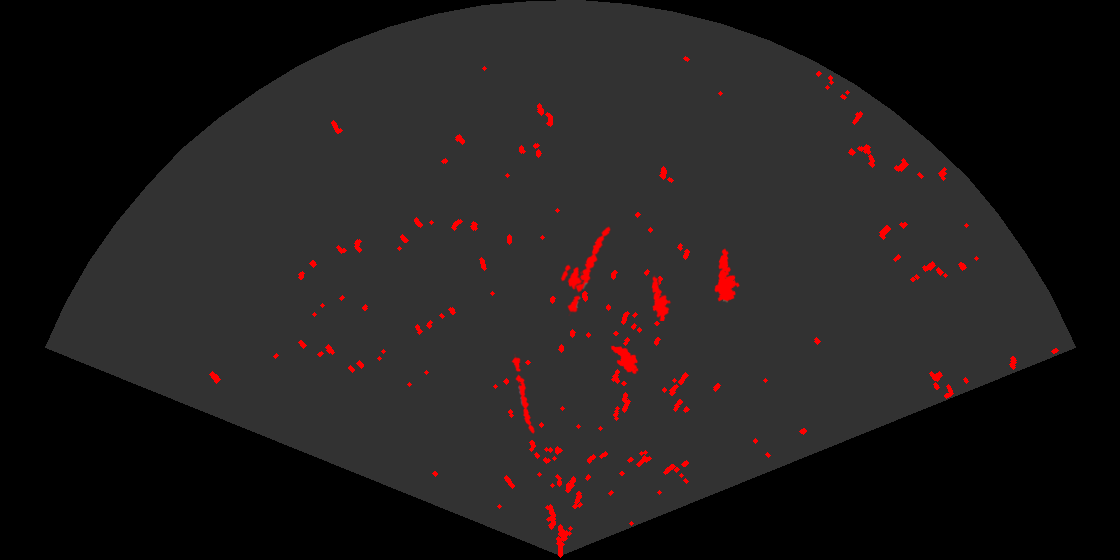AUV: (609, 344, 640, 376)
ball: (559, 263, 589, 291)
chain: (566, 224, 612, 316), (510, 354, 536, 436)
frogman: (713, 247, 741, 303), (650, 275, 673, 321)
